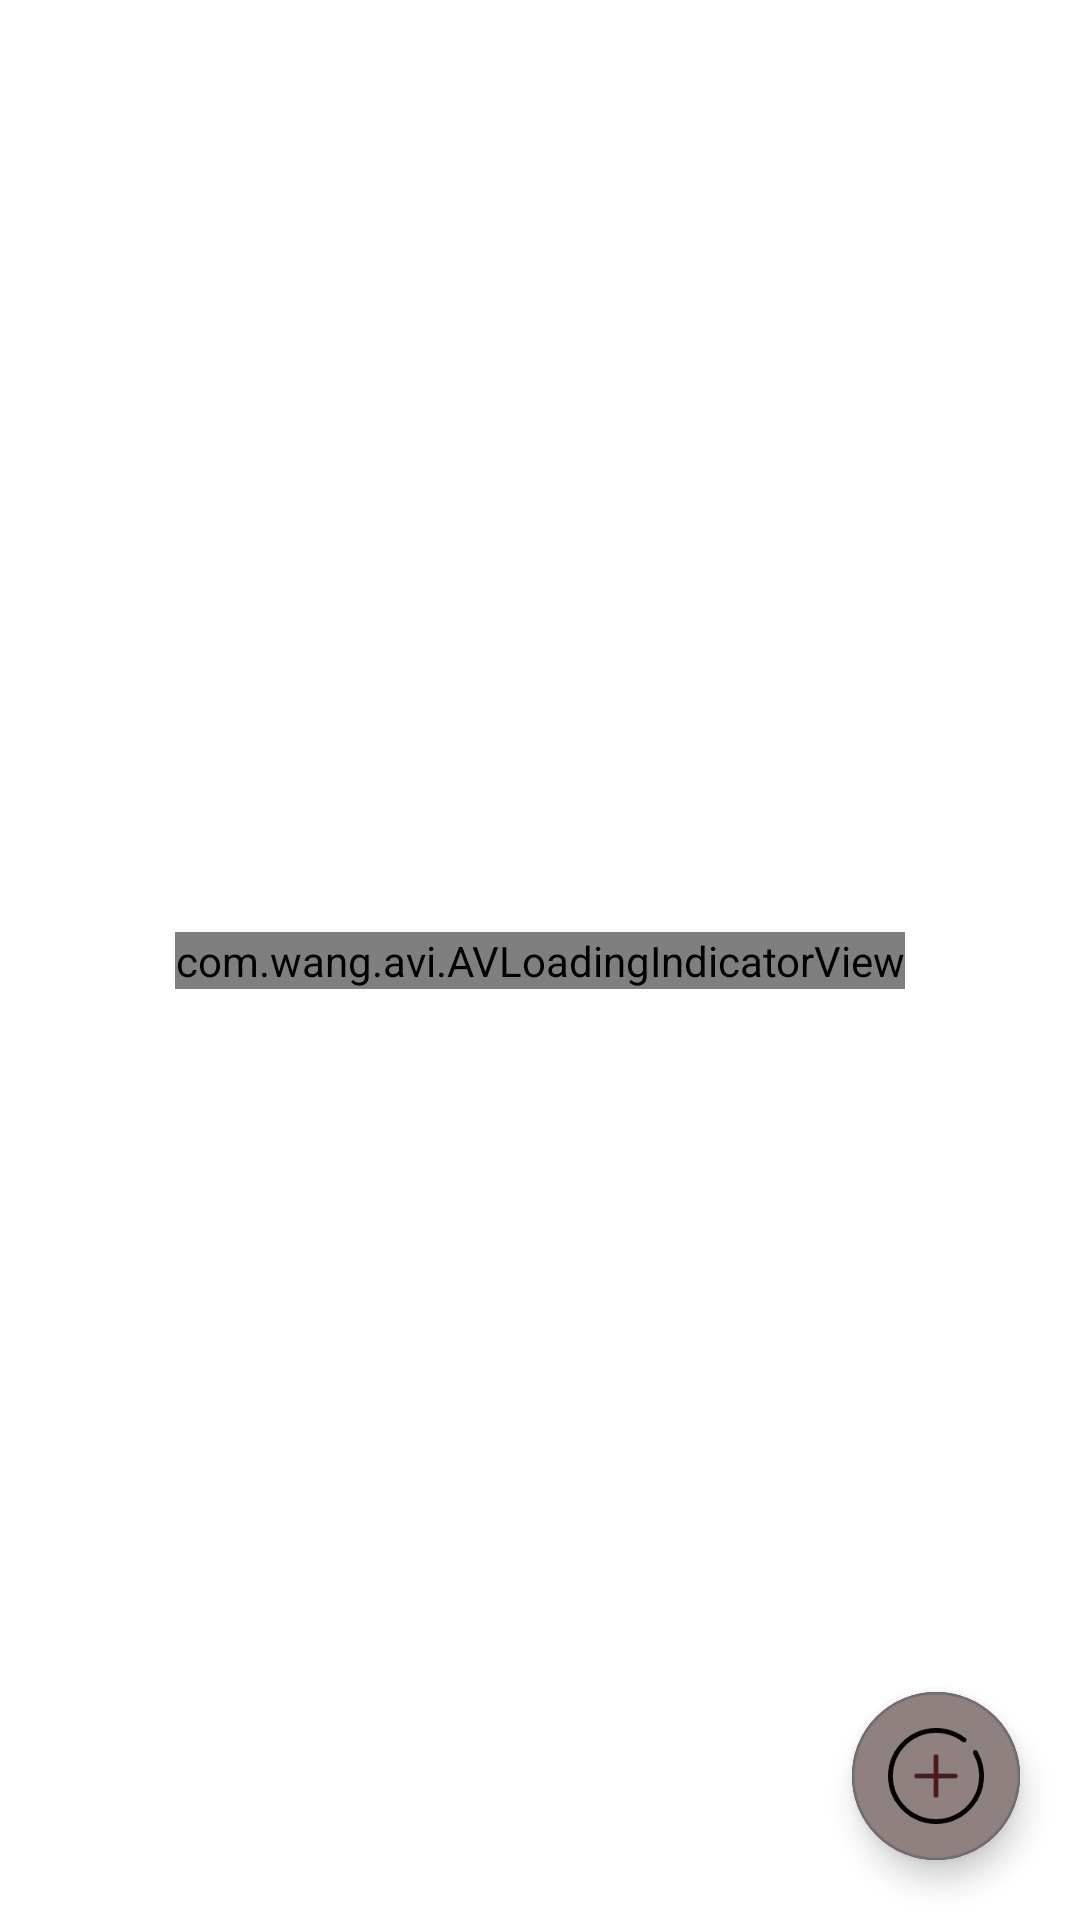

Named icons in this screenshot (1080 × 1920) and their centers, (x=x, y=y):
add category: (x=936, y=1776)
